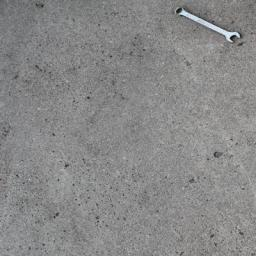FOD: (175, 7, 244, 46)
